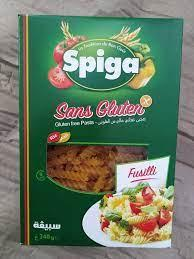lasagne: (19, 15, 185, 248)
